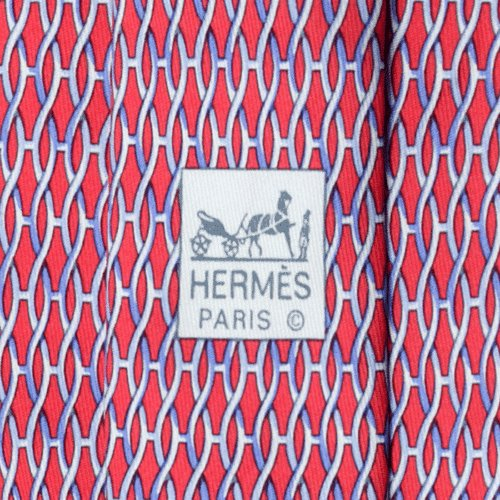HERMES: (185, 172, 321, 334)
